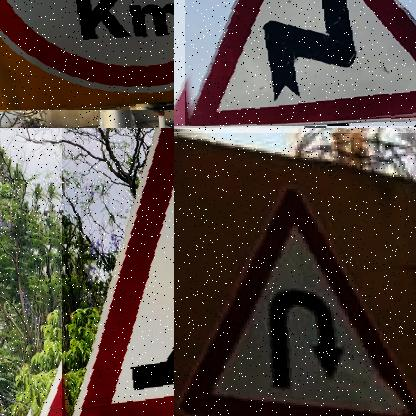Speed Breaker Ahead: (68, 128, 174, 416)
Speed Limit -20 kmph-: (0, 0, 174, 110)
U-Turn: (174, 137, 416, 416), (174, 185, 395, 416)
Zigzag Road Ahead: (186, 0, 416, 126)
